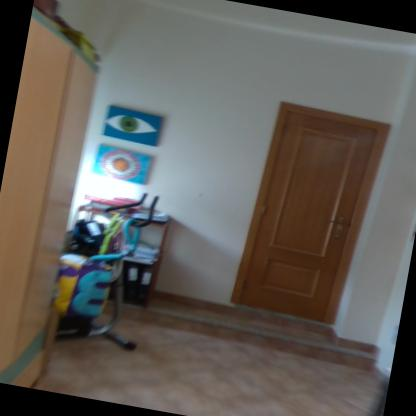closed: (228, 87, 406, 336)
